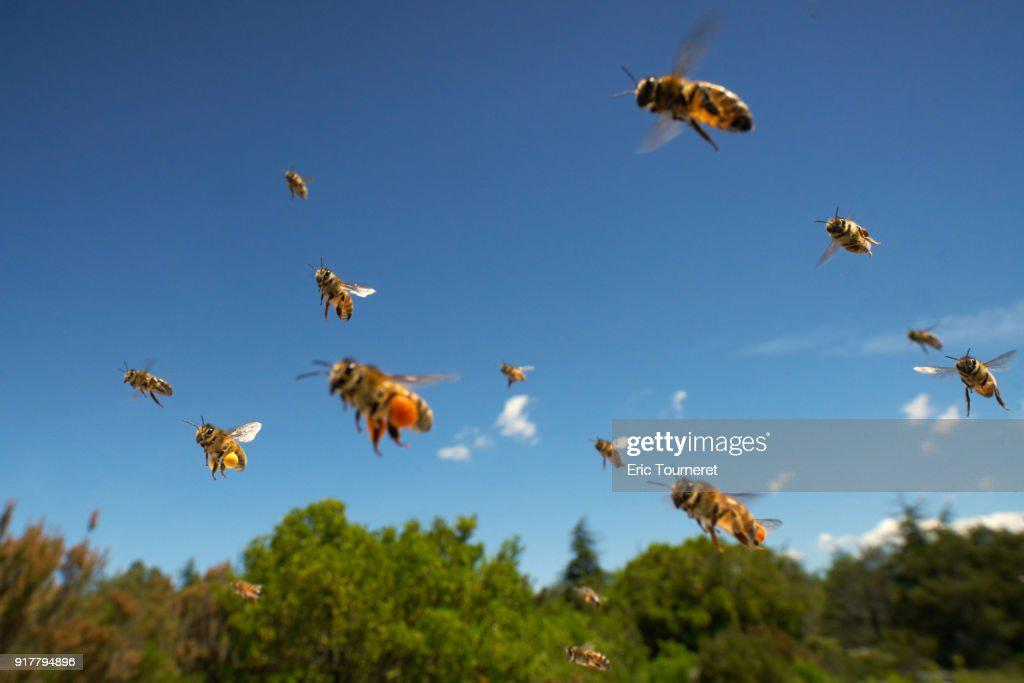bee: (310, 358, 437, 444)
